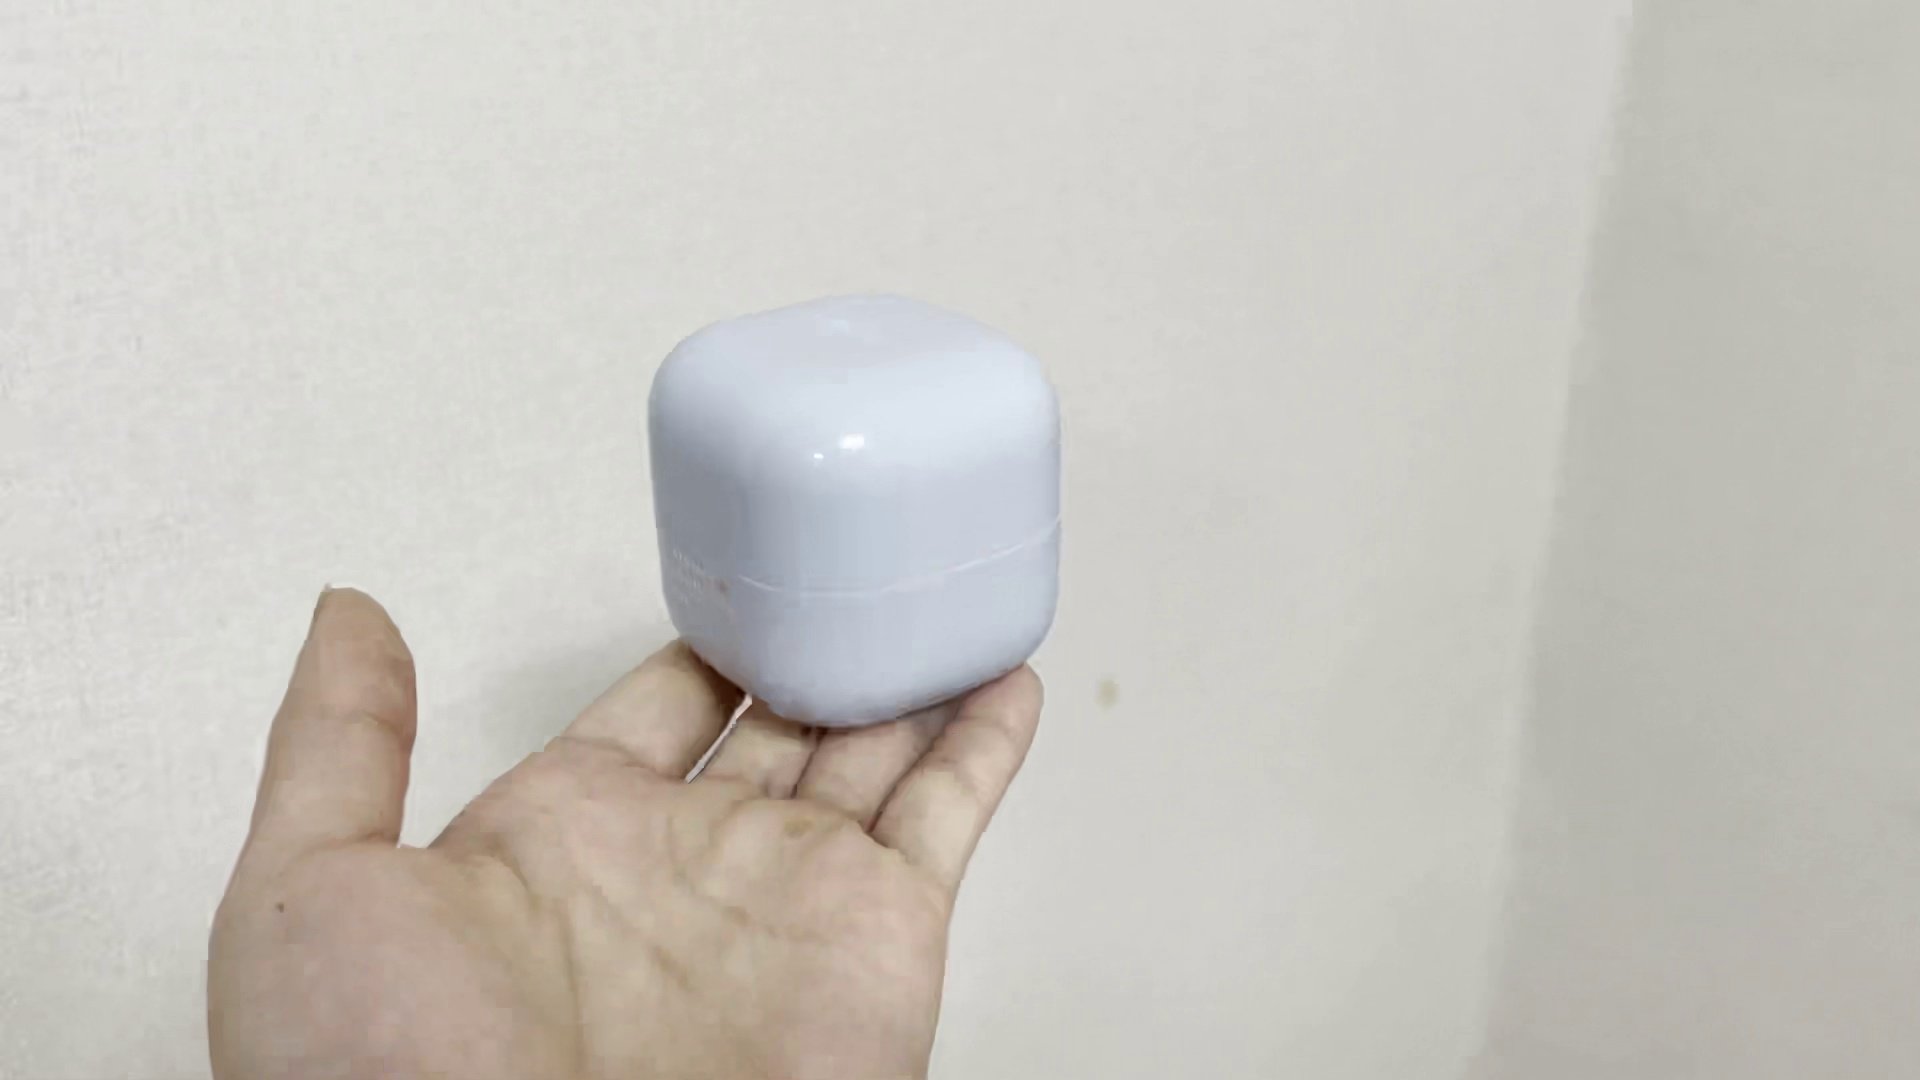cream: (644, 290, 1063, 737)
